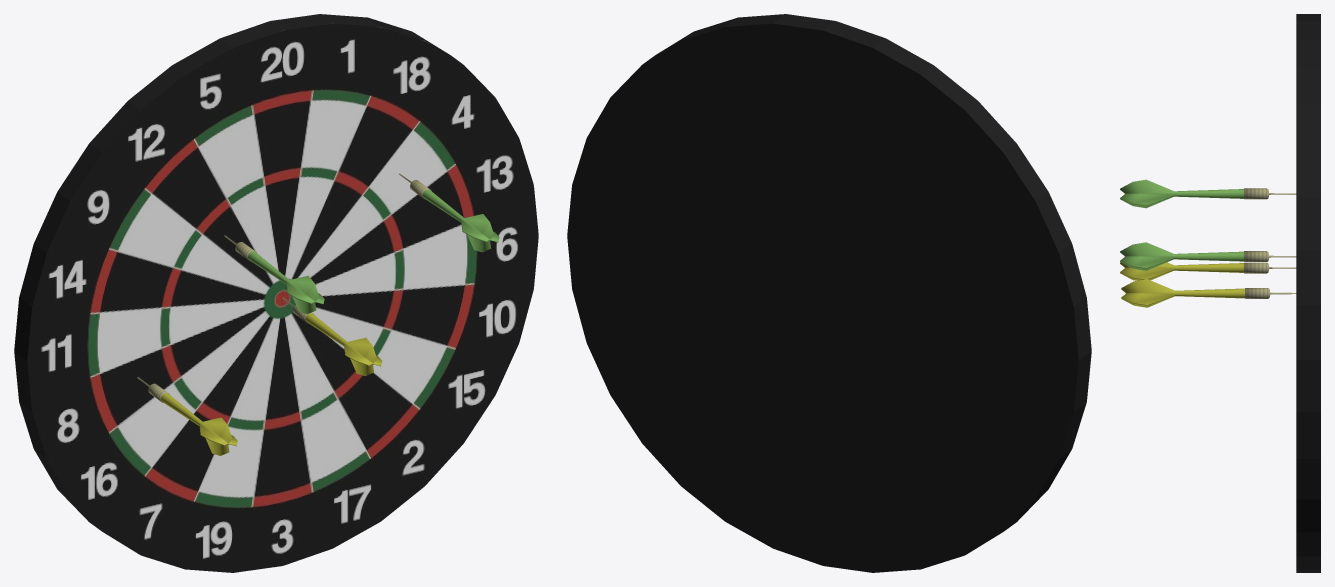
File: darts_asset.glb
The picture shows the model from 3 angles, left to right: view 1: azimuth 30°, elevation 25°; view 2: azimuth 150°, elevation 25°; view 3: azimuth 270°, elevation 25°; orthographic projection. The views are drawn at different scales.
Visible parts, largest first — view 1: Object_2, Object_3, Object_5, Object_4; view 2: Object_2; view 3: Object_2, Object_3, Object_5, Object_4.
Part boxes in pixels (x1=…): Object_2: x1=14, y1=14, x2=538, y2=572; Object_3: x1=248, y1=189, x2=499, y2=314; Object_5: x1=161, y1=313, x2=382, y2=455; Object_4: x1=137, y1=173, x2=431, y2=402; Object_2: x1=567, y1=14, x2=1091, y2=572; Object_2: x1=1296, y1=14, x2=1320, y2=572; Object_3: x1=1120, y1=179, x2=1243, y2=270; Object_5: x1=1120, y1=262, x2=1244, y2=307; Object_4: x1=1244, y1=188, x2=1296, y2=298.
Size of the model in its own units: 45.3 by 45.3 by 16.26.
Materials: 4 (2 with a texture image).
